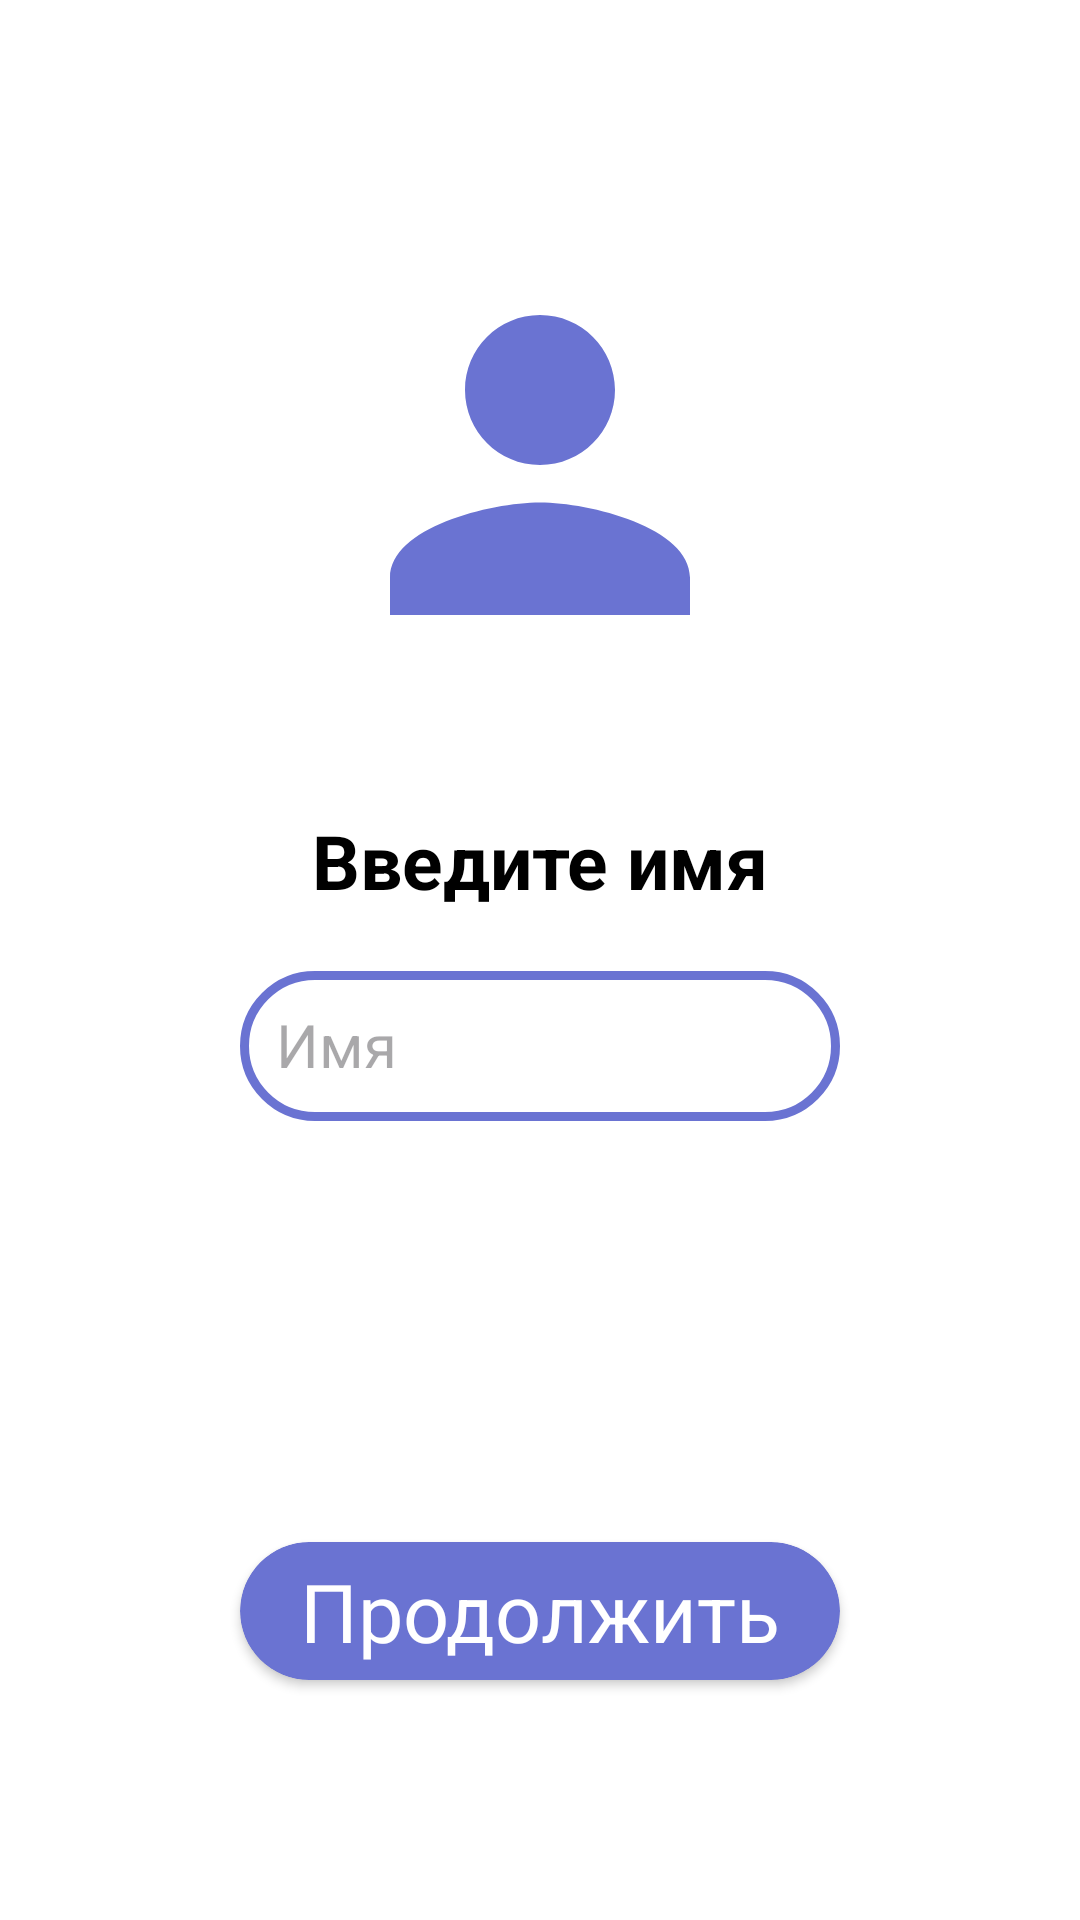

Where icons sit on this 1080x1920 app screen, as bbox(x1, y1, x2, y2):
person: bbox(390, 315, 690, 615)
